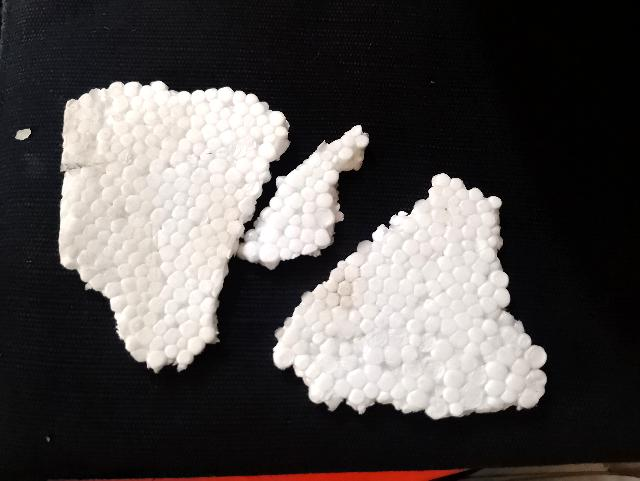cocksheet: (288, 190, 553, 422), (62, 84, 253, 352)
